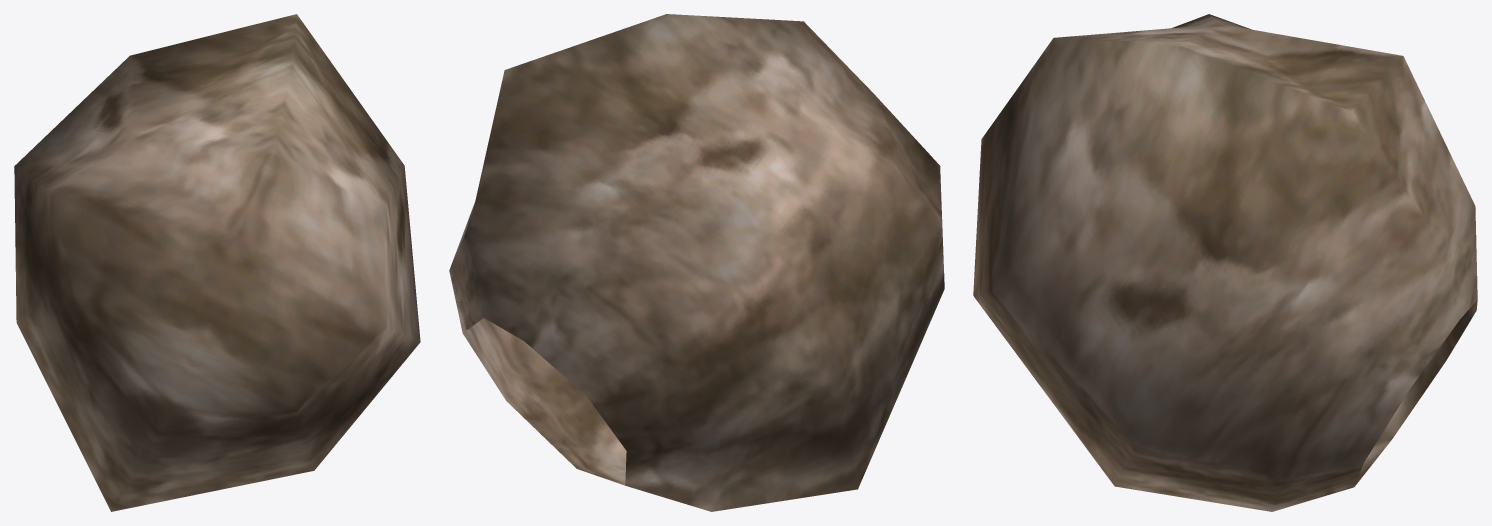
The model's file is OVERHILL_A_01_ROCK55.fbx.
3 views of the same model, side by side, from view 1: azimuth 30°, elevation 25°; view 2: azimuth 150°, elevation 25°; view 3: azimuth 270°, elevation 25° (orthographic). The views are drawn at different scales.
Visible parts, largest first — view 1: OVERHILL_A_01_ROCK55; view 2: OVERHILL_A_01_ROCK55; view 3: OVERHILL_A_01_ROCK55.
Part boxes in pixels (left/top/right/bottom): OVERHILL_A_01_ROCK55: left=14, top=14, right=420, bottom=511; OVERHILL_A_01_ROCK55: left=449, top=14, right=944, bottom=511; OVERHILL_A_01_ROCK55: left=973, top=14, right=1477, bottom=511.
Bounding box in the file's own units: 5881 × 5989 × 5867.
Materials: 1 (1 with a texture image).
